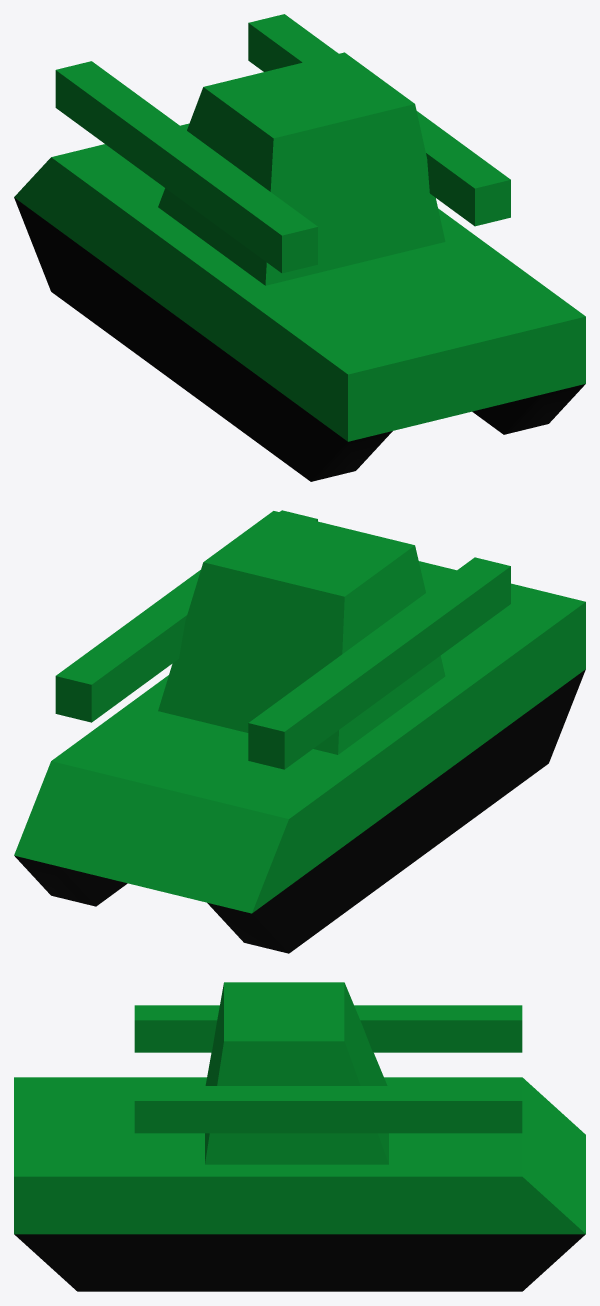
The picture shows the model from 3 angles, top to bottom: view 1: azimuth 30°, elevation 25°; view 2: azimuth 150°, elevation 25°; view 3: azimuth 270°, elevation 25°; orthographic projection. The views are drawn at different scales.
Visible parts, largest first — view 1: Body, Turret, Muzzle; view 2: Body, Turret, Muzzle; view 3: Body, Muzzle, Turret.
Boxes of the visible parts, <box> form: Body: <box>14,123,585,481</box>; Turret: <box>158,52,445,285</box>; Muzzle: <box>55,14,510,273</box>; Body: <box>14,561,585,953</box>; Turret: <box>158,511,445,754</box>; Muzzle: <box>55,510,510,769</box>; Body: <box>14,1077,585,1291</box>; Muzzle: <box>134,1005,522,1133</box>; Turret: <box>205,982,388,1164</box>.
Bounding box in the file's own units: 3.7 × 4 × 9.
